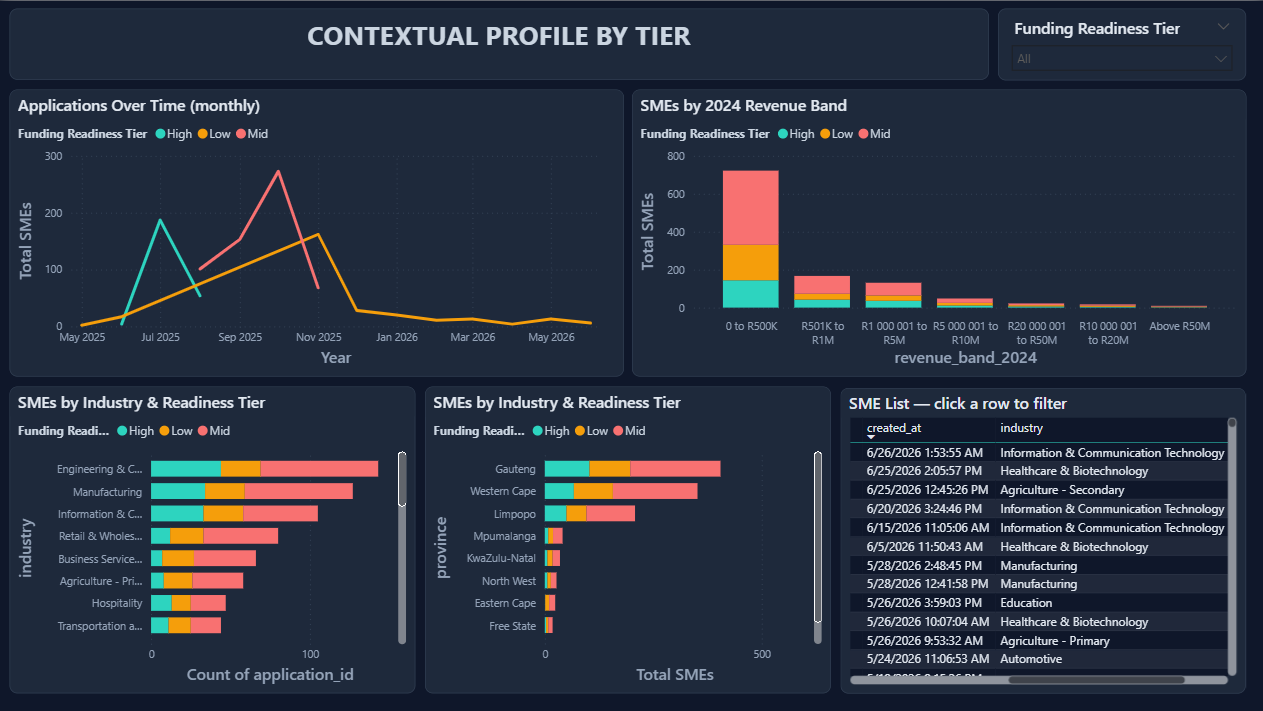

The page's visual inventory and layout, read from the dashboard file:
{"tool":"powerbi","page":{"name":"Contextual Profile","canvas":[1280,720],"ordinal":2},"visuals":[{"type":"textbox","box":[9.9,8.1,989.3,71.8],"z":0},{"type":"lineChart","title":"Applications Over Time (monthly)","fields":{"Y":["Funding Readiness.Total SMEs"],"Category":["Clean Data.created_at.Variation.Date Hierarchy.Year","Clean Data.created_at.Variation.Date Hierarchy.Month"],"Series":["Funding Readiness.Funding Readiness Tier"]},"box":[9.9,89.8,620.3,290],"z":1000},{"type":"columnChart","title":"SMEs by 2024 Revenue Band","fields":{"Category":["Clean Data.revenue_band_2024"],"Y":["Funding Readiness.Total SMEs"],"Series":["Funding Readiness.Funding Readiness Tier"]},"box":[640.1,89.8,620.3,290],"z":2000},{"type":"barChart","title":"SMEs by Industry & Readiness Tier","fields":{"Category":["Funding Readiness.industry"],"Y":["CountNonNull(Funding Readiness.application_id)"],"Series":["Funding Readiness.readiness_tier"]},"box":[10,390,410,310],"z":3000},{"type":"tableEx","title":"SME List — click a row to filter","fields":{"Values":["Funding Readiness.company_name","Funding Readiness.industry","Funding Readiness.province"]},"box":[850,390,420,310],"z":4000},{"type":"barChart","title":"SMEs by Industry & Readiness Tier","fields":{"Y":["CountNonNull(Funding Readiness.application_id)"],"Series":["Funding Readiness.readiness_tier"],"Category":["Funding Readiness.province"]},"box":[430,389.6,410.3,309.7],"z":5000},{"type":"slicer","fields":{"Values":["Funding Readiness.readiness_tier"]},"box":[1009.1,8.1,250.5,71.8],"z":6000}]}

Visuals, with their boxes in screenshot pixels (x1, y1, x2, y2), scaled from the page's 1280x720 canvas onto the 1263x711 screenshot:
textbox: x1=10 y1=8 x2=986 y2=79
"Applications Over Time (monthly)" lineChart: x1=10 y1=89 x2=622 y2=375
"SMEs by 2024 Revenue Band" columnChart: x1=632 y1=89 x2=1244 y2=375
"SMEs by Industry & Readiness Tier" barChart: x1=10 y1=385 x2=414 y2=691
"SME List — click a row to filter" tableEx: x1=839 y1=385 x2=1253 y2=691
"SMEs by Industry & Readiness Tier" barChart: x1=424 y1=385 x2=829 y2=691
slicer - Funding Readiness.readiness_tier: x1=996 y1=8 x2=1243 y2=79
